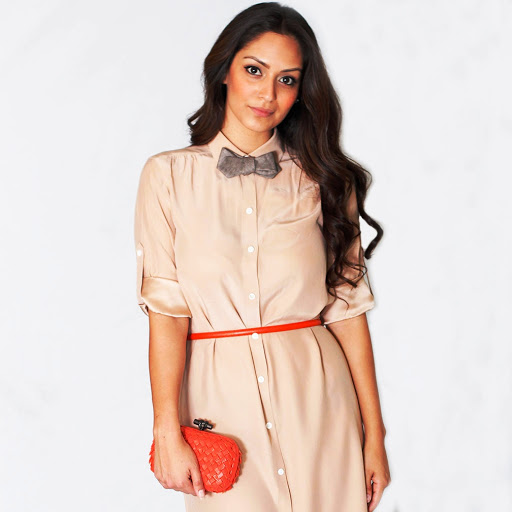bow: (214, 146, 286, 188)
